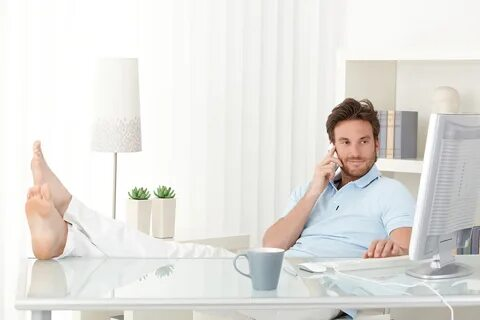awake: (24, 96, 417, 260)
